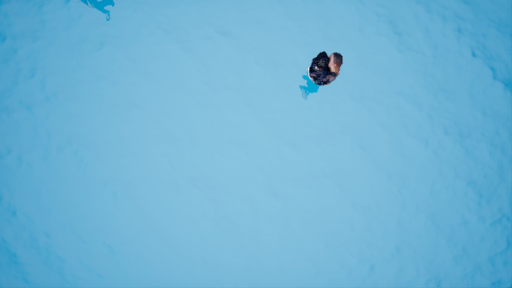person: (302, 44, 343, 106)
